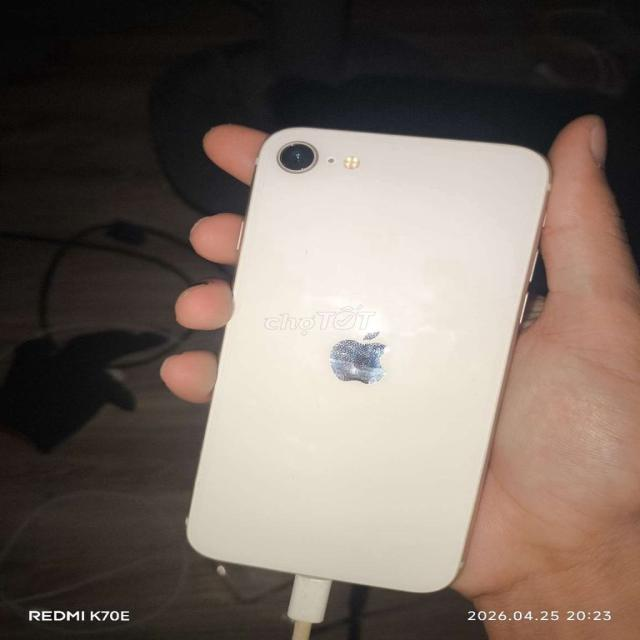gen_7_8: (180, 113, 559, 604)
scratch: (316, 321, 398, 384), (270, 133, 324, 173)
